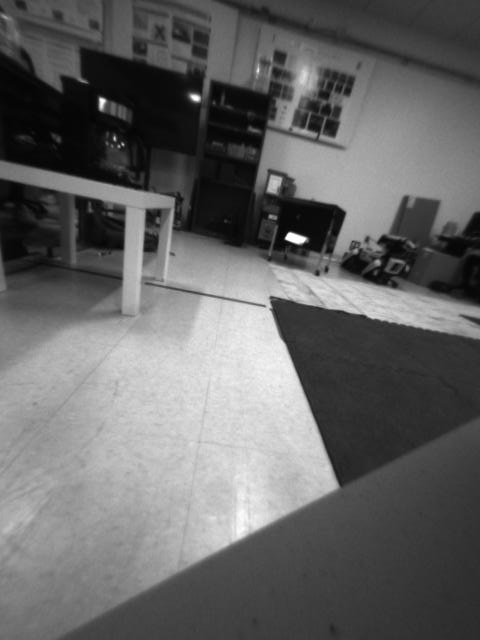coffee_pot: (74, 81, 146, 192)
